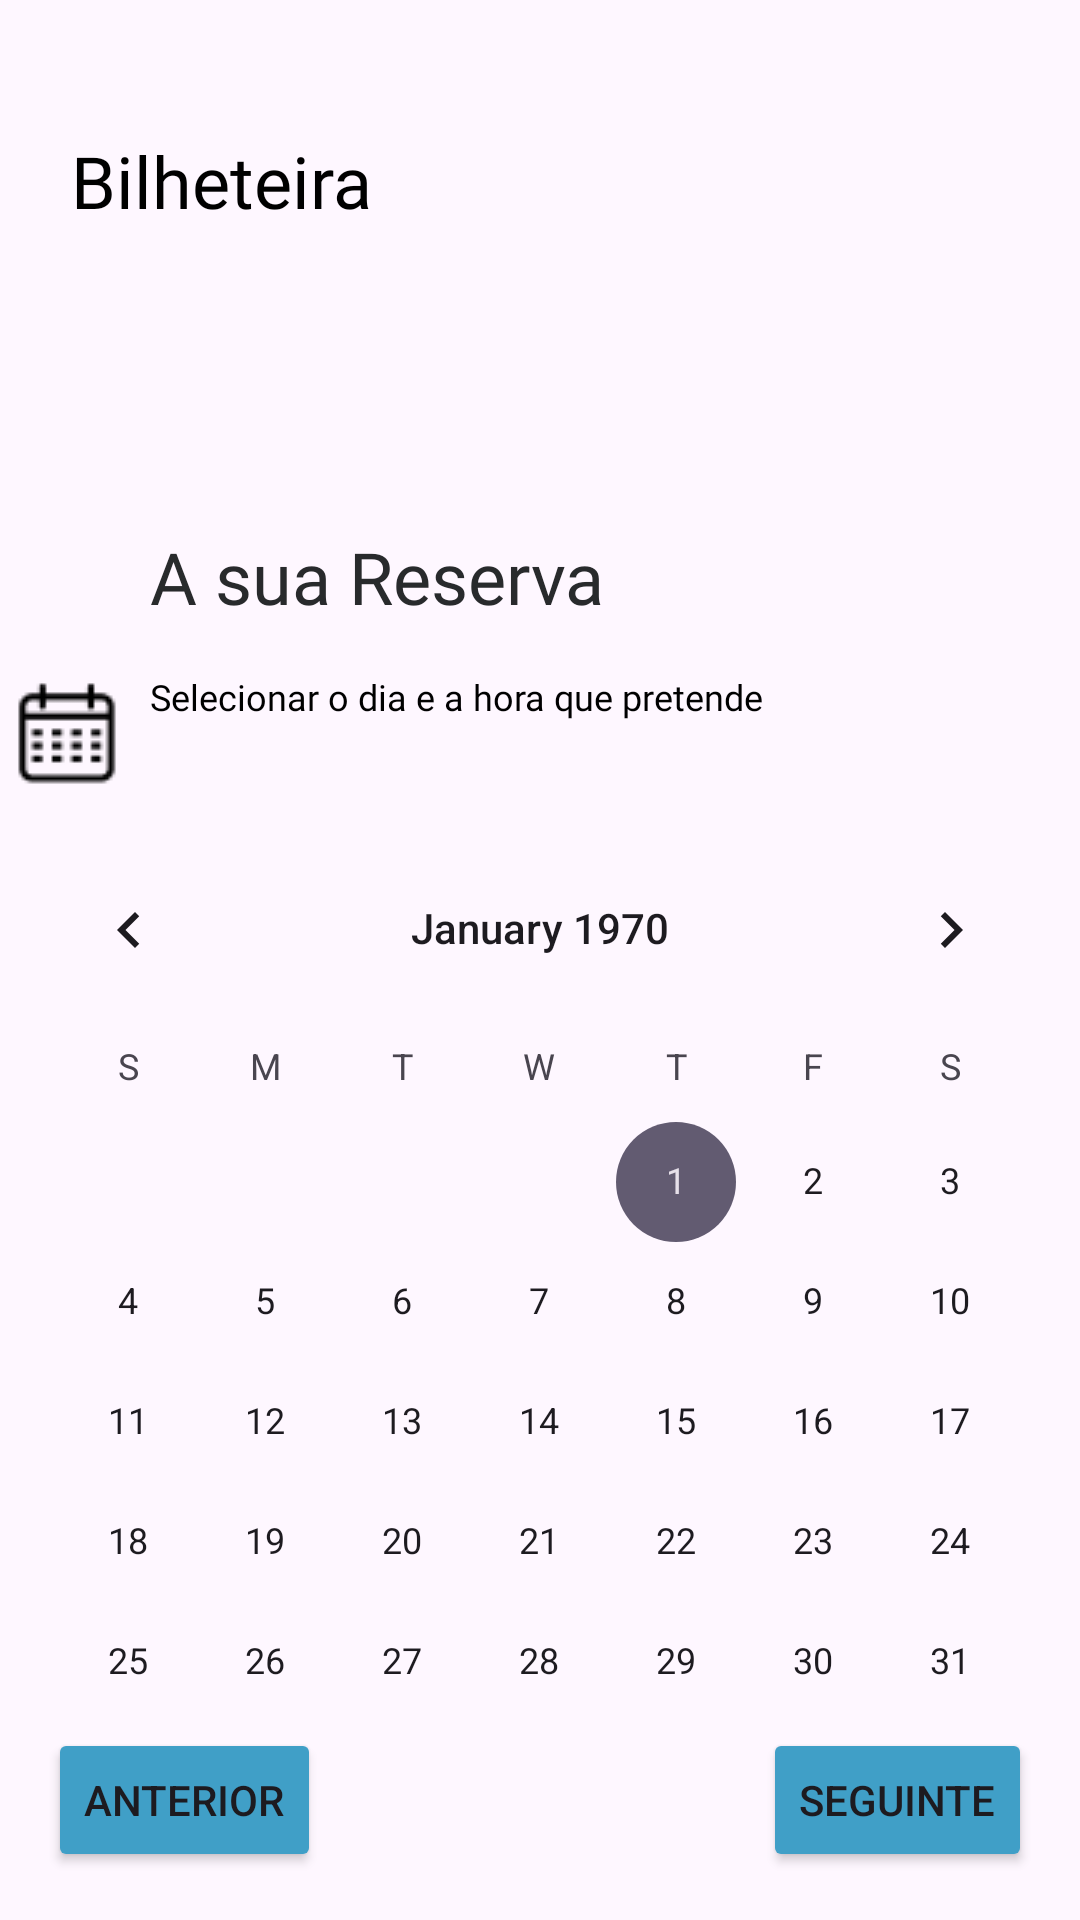

Screen size 1080px x 1920px. Icon name, then its box in pixels as (x1, y1, x2, y2):
calendario: (18, 683, 116, 784)
